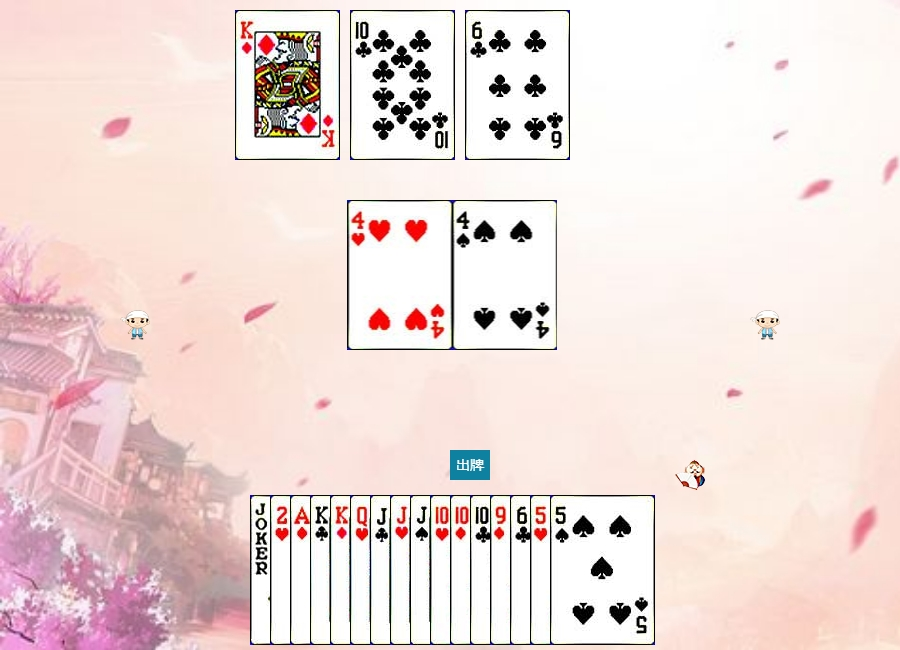10~1: (450, 495, 555, 645)
10~2: (350, 10, 455, 160), (470, 495, 575, 645)
10~3: (430, 495, 535, 645)
11~2: (370, 495, 475, 645)
11~3: (390, 495, 495, 645)
11~4: (410, 495, 515, 645)
12~3: (350, 495, 455, 645)
13~1: (235, 10, 340, 160), (330, 495, 435, 645)
13~2: (310, 495, 415, 645)
14~1: (290, 495, 395, 645)
15~3: (270, 495, 375, 645)
17~3: (250, 495, 355, 645)
4~3: (348, 200, 453, 350)
4~4: (453, 200, 558, 350)
5~3: (530, 495, 635, 645)
5~4: (550, 495, 655, 645)
6~2: (465, 10, 570, 160), (510, 495, 615, 645)
9~1: (490, 495, 595, 645)
